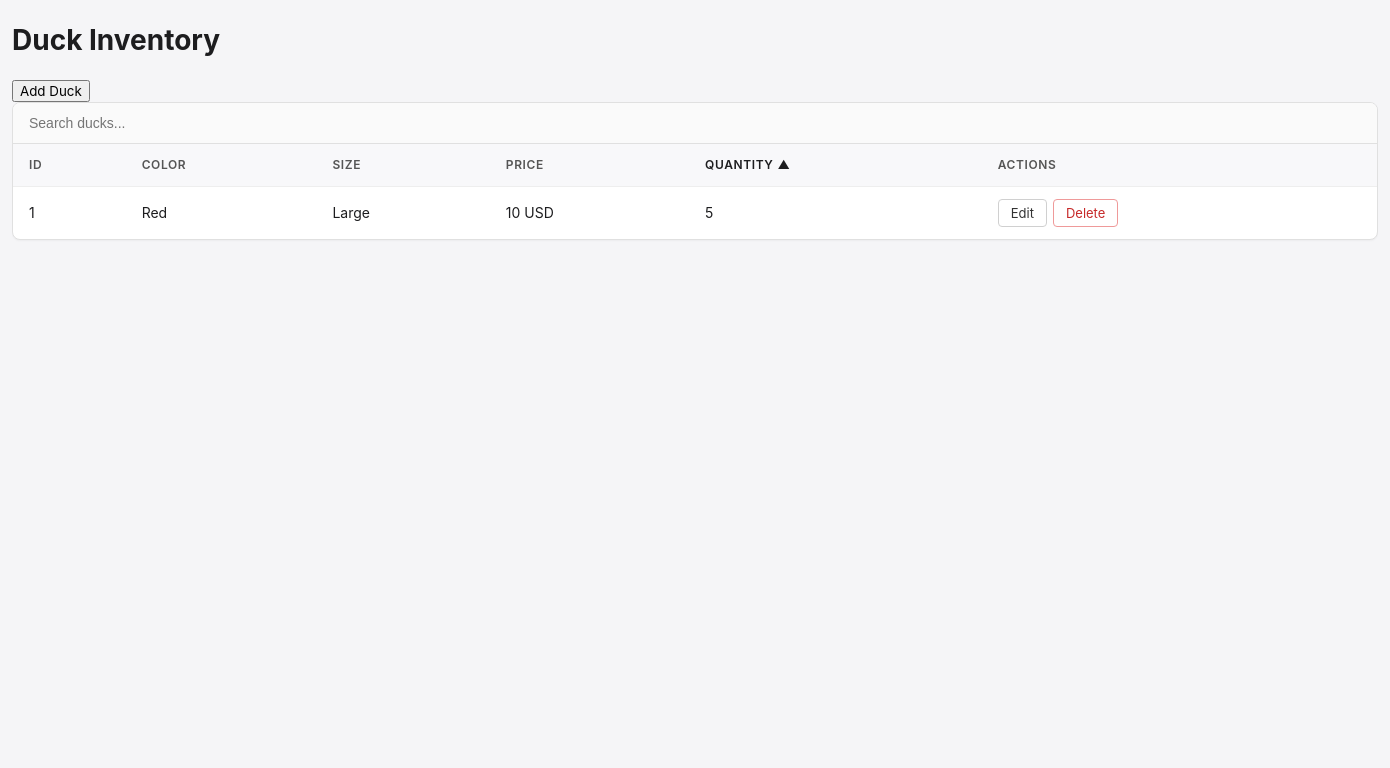
Test: Inventory page › should open the edit form pre-filled when a row's Edit button is clicked
Expected: the text "Red" is shown, x1=126 y1=186 x2=316 y2=238
What coordinates should you click on to do the following:
click the button "Edit"
I would click on:
 (1022, 212)
Its box is x1=998 y1=198 x2=1047 y2=226.
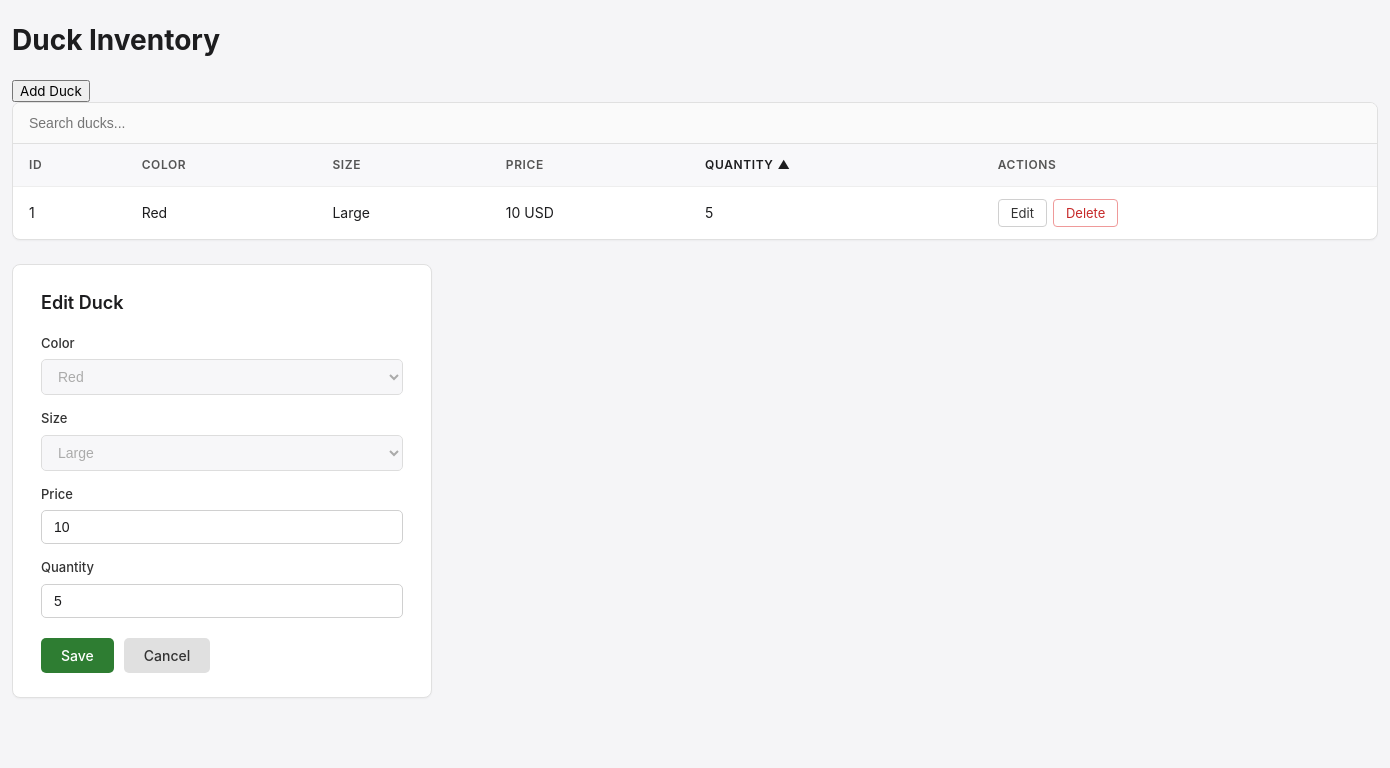
Expected: the heading "Edit Duck" is shown, x1=41 y1=292 x2=124 y2=312
Expected: the number field labelled "Price" holds "10", x1=41 y1=510 x2=403 y2=544
Expected: the number field labelled "Quantity" holds "5", x1=41 y1=584 x2=403 y2=618
